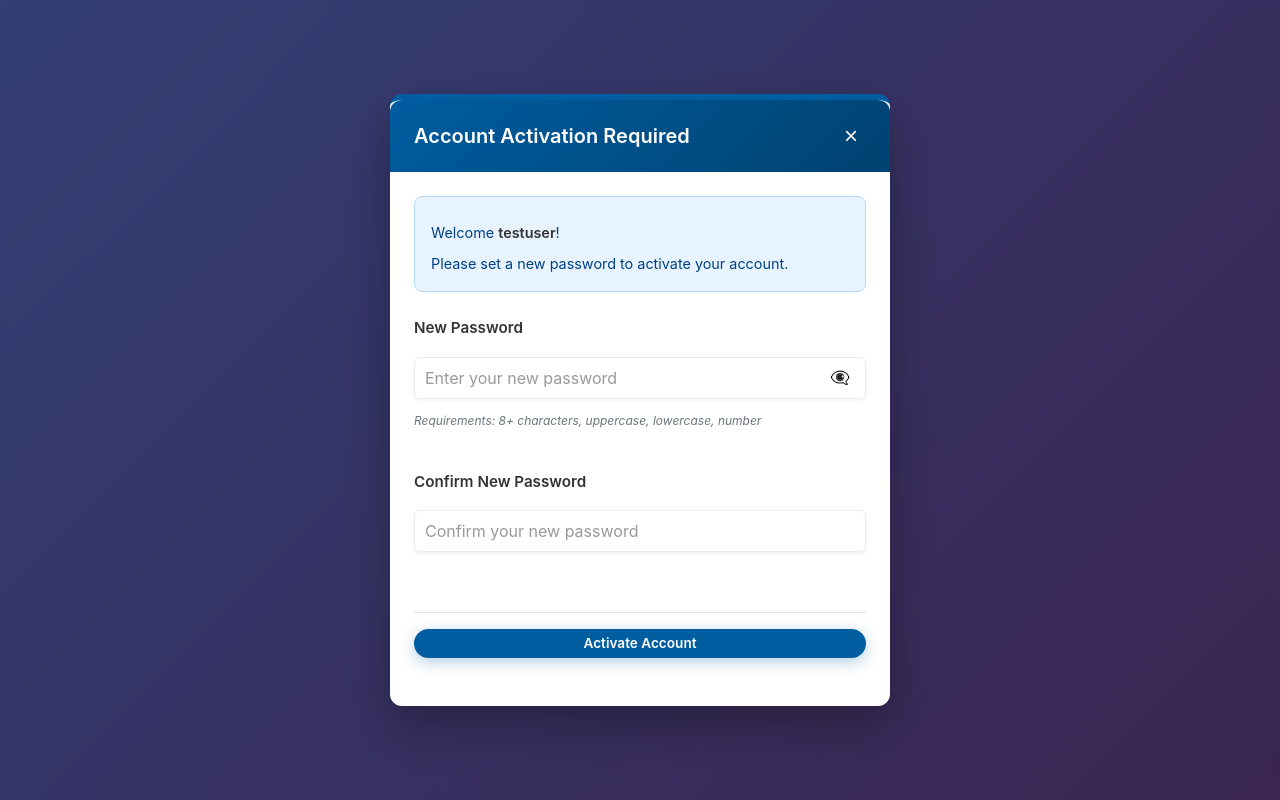
Test: PasswordChangeModal Component › Form Input Handling › clears specific error when user types in field with error (lines 42-47)
This screenshot has width=1280, height=800.
Submit empty form to trigger errors
Click the button "Activate Account".
click(640, 644)  # box [414,629,866,658]
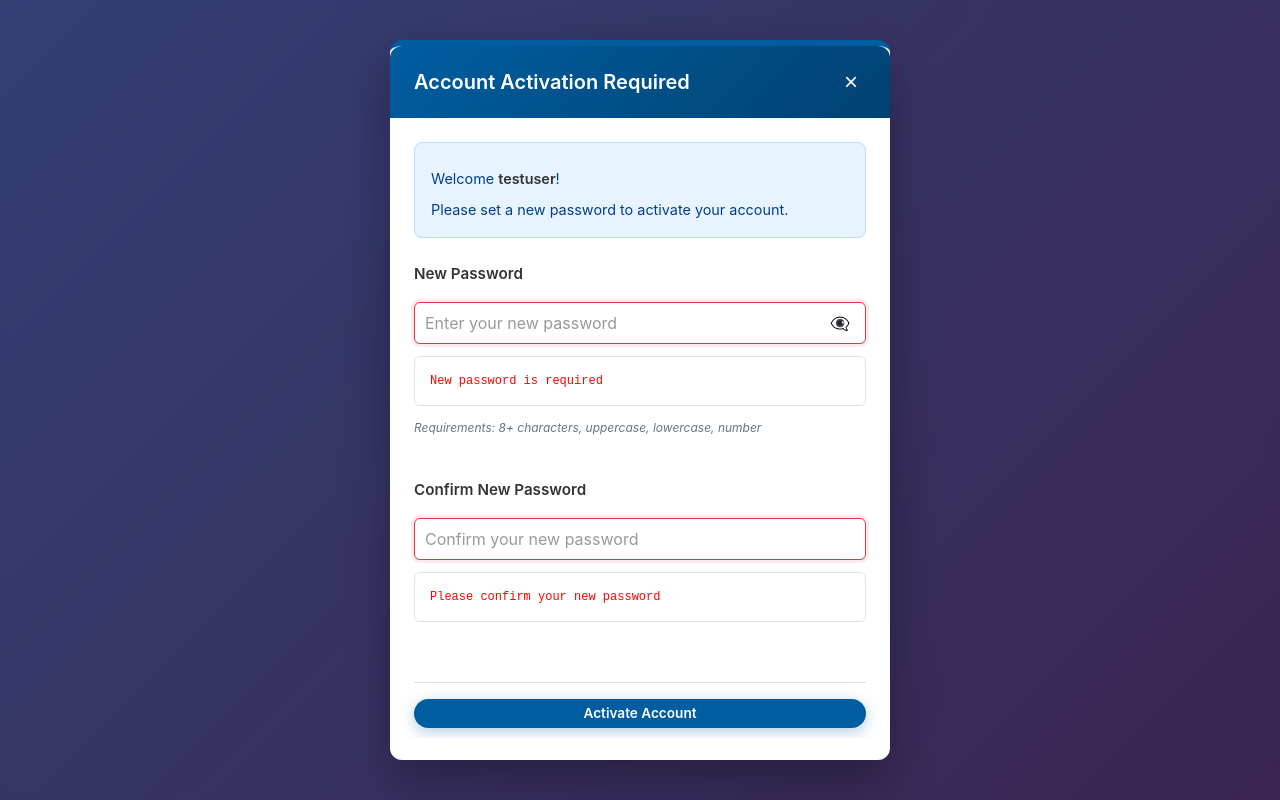
Check: the text "New password is required" is shown, box [414,356,866,406]
Type in the field
Type "a" into the password field with placeholder "Enter your new password".
click(640, 323); type("a")  # box [414,302,866,344]
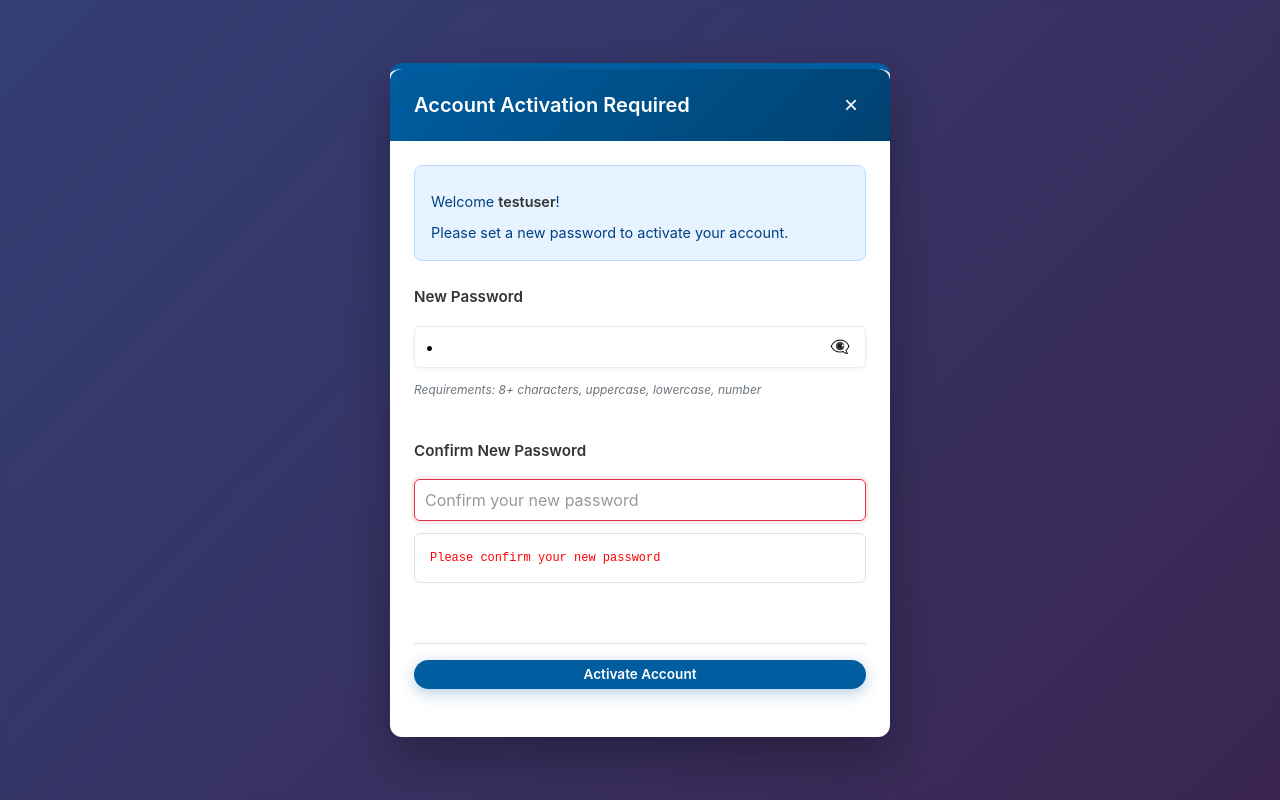
Check: the text "New password is required" is gone
